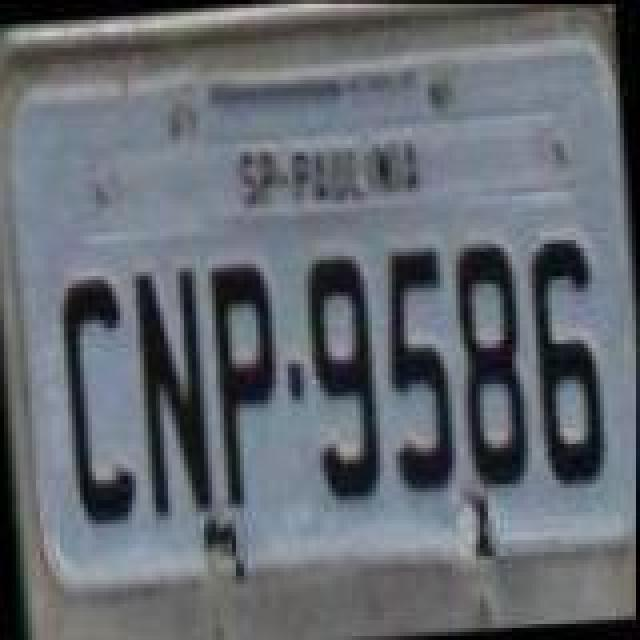5: (376, 242, 460, 494)
6: (522, 236, 610, 492)
8: (452, 240, 536, 492)
9: (300, 252, 384, 504)
C: (58, 276, 142, 532)
N: (134, 268, 218, 524)
P: (206, 262, 290, 514)
